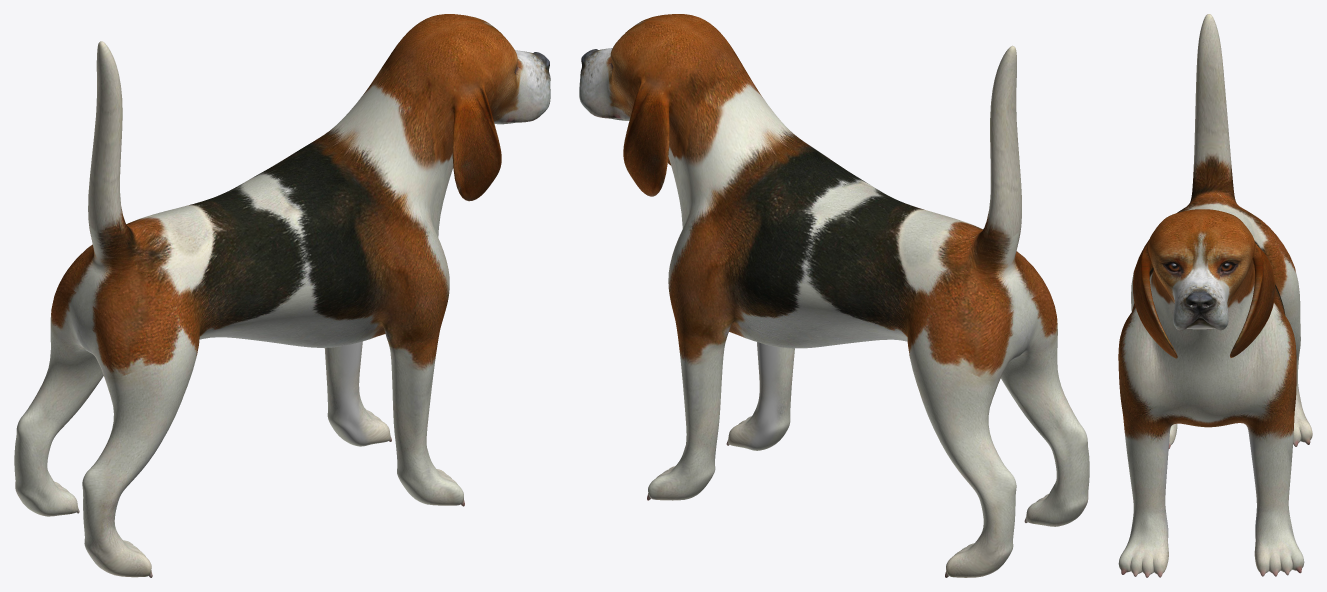
Rendered from perro.obj.
3 views of the same model, side by side, from view 1: azimuth 30°, elevation 25°; view 2: azimuth 150°, elevation 25°; view 3: azimuth 270°, elevation 25° (orthographic). The views are drawn at different scales.
Visible parts, largest first — view 1: 13041_Beagle_v1_L1.001; view 2: 13041_Beagle_v1_L1.001; view 3: 13041_Beagle_v1_L1.001.
Part boxes in pixels (x1,y1,x2,y2): 13041_Beagle_v1_L1.001: (14,14,550,577); 13041_Beagle_v1_L1.001: (579,14,1089,577); 13041_Beagle_v1_L1.001: (1118,14,1312,577).
Size of the model in its own units: 4.8 by 4.74 by 1.94.
Materials: 1 (1 with a texture image).
